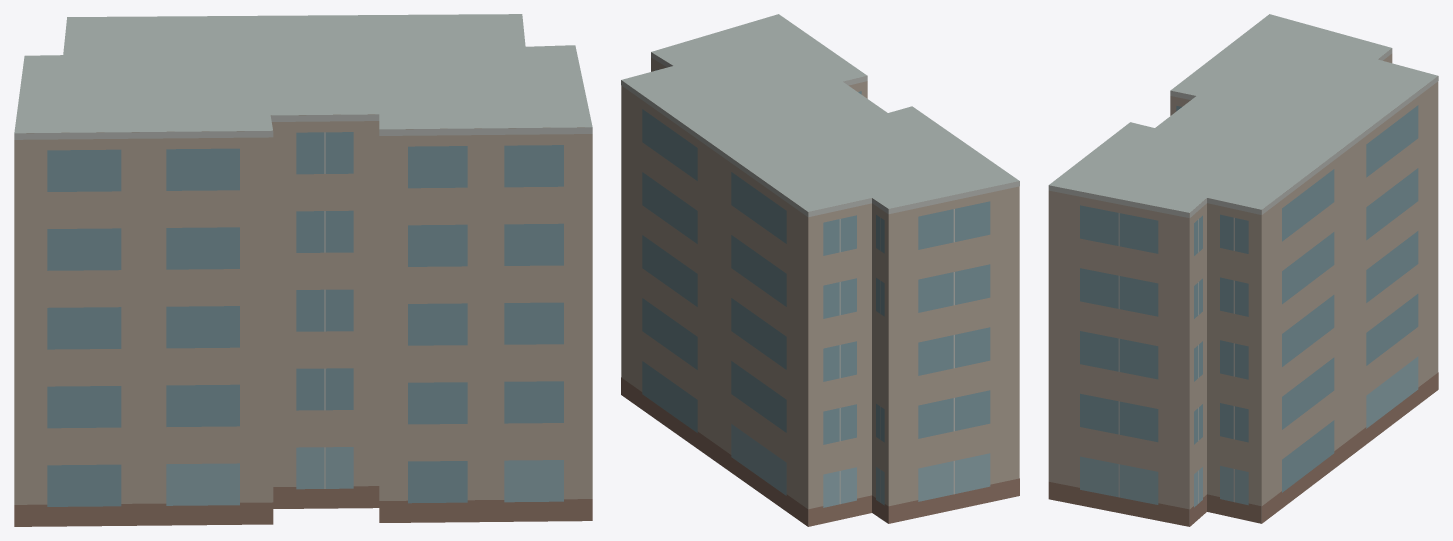
The model's file is survey-upis-32750518.glb.
3 renders of one model, left to right at view 1: azimuth 30°, elevation 25°; view 2: azimuth 150°, elevation 25°; view 3: azimuth 270°, elevation 25°, orthographic. The views are drawn at different scales.
Visible parts, largest first — view 1: survey-upis-32750518.tmp; view 2: survey-upis-32750518.tmp; view 3: survey-upis-32750518.tmp.
Boxes of the visible parts, bbox=[...] form: survey-upis-32750518.tmp: bbox=[14, 14, 592, 526]; survey-upis-32750518.tmp: bbox=[621, 14, 1019, 526]; survey-upis-32750518.tmp: bbox=[1048, 14, 1438, 526].
Size of the model in its own units: 19.57 by 14.4 by 16.21.
